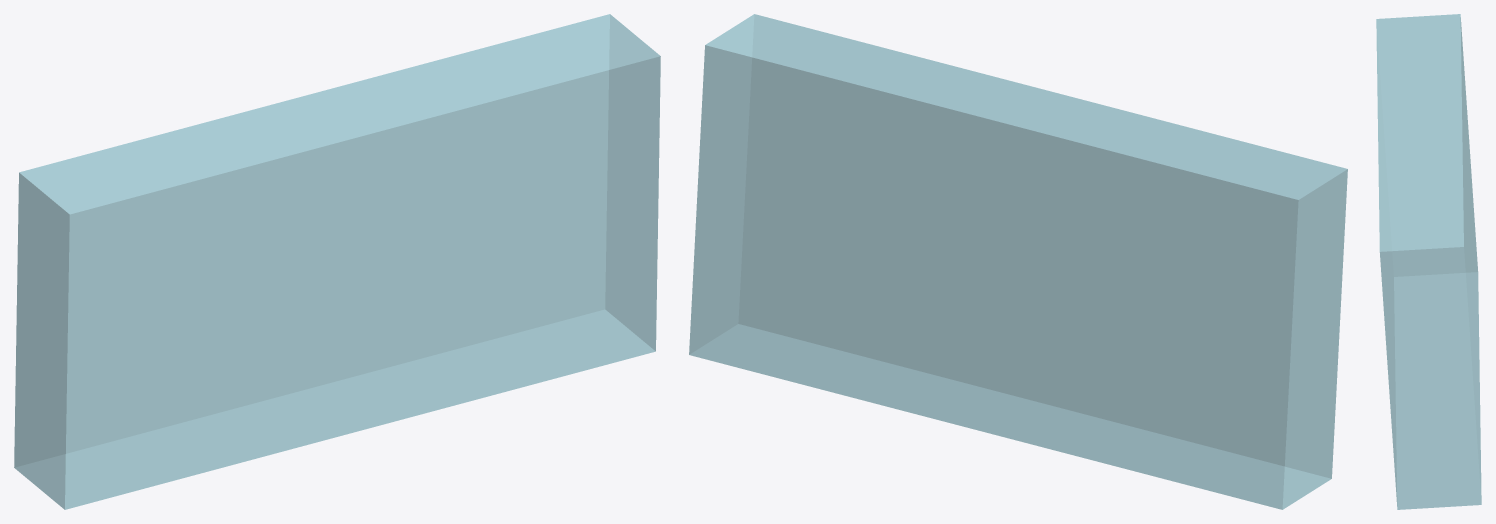
File: morse code hologram puzzle hologram box to display numbers.fbx
The picture shows the model from 3 angles, left to right: view 1: azimuth 30°, elevation 25°; view 2: azimuth 150°, elevation 25°; view 3: azimuth 270°, elevation 25°; orthographic projection. The views are drawn at different scales.
Parts seen in each view (by area): view 1: fbf63763-9ade-4d20-b6ee-c5ebce67f626; view 2: fbf63763-9ade-4d20-b6ee-c5ebce67f626; view 3: fbf63763-9ade-4d20-b6ee-c5ebce67f626.
Part boxes in pixels (x1,y1,x2,y2): fbf63763-9ade-4d20-b6ee-c5ebce67f626: (14,14,660,509); fbf63763-9ade-4d20-b6ee-c5ebce67f626: (689,14,1347,509); fbf63763-9ade-4d20-b6ee-c5ebce67f626: (1376,14,1481,509).
Size of the model in its own units: 33364 by 17144 by 6041.
